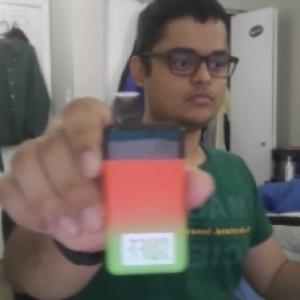Swift-E-Ciggirate: (96, 91, 195, 279)
